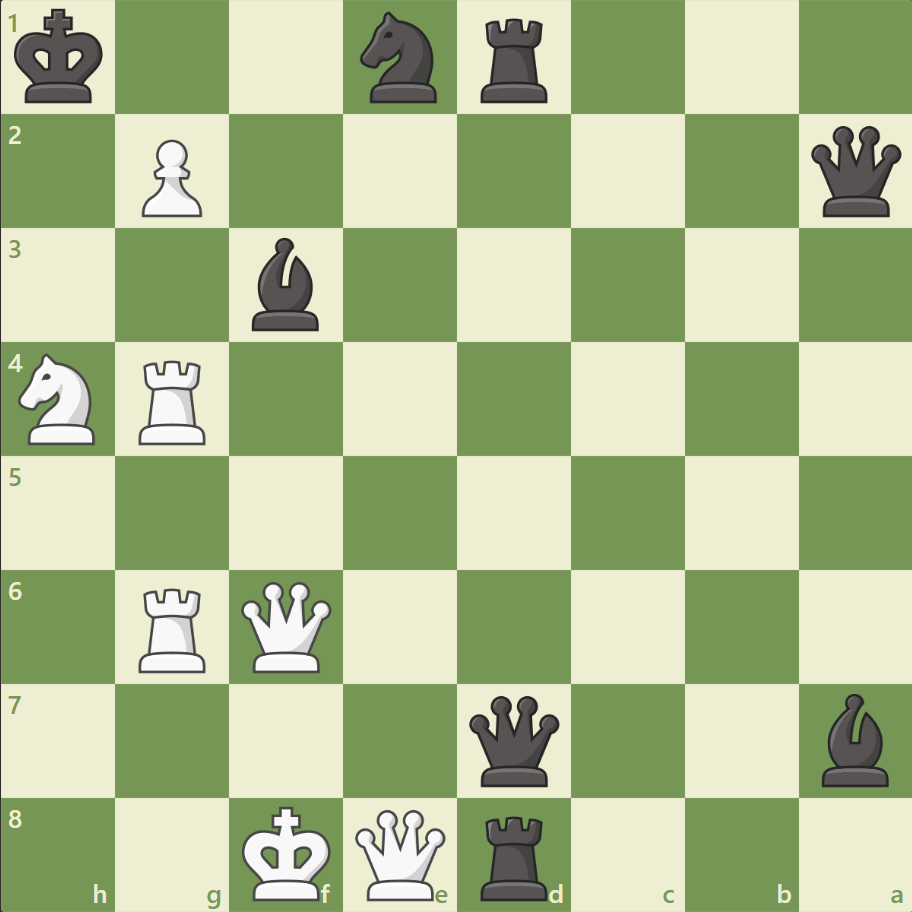K: (238, 798, 338, 906)
N: (11, 348, 108, 450)
P: (133, 132, 208, 223)
Q: (237, 576, 336, 676), (351, 804, 450, 903)
R: (133, 579, 215, 676), (133, 352, 215, 449)
b: (812, 687, 896, 790), (244, 233, 328, 336)
k: (11, 4, 111, 112)
n: (351, 7, 449, 110)
q: (805, 122, 904, 222), (464, 690, 563, 789)
r: (473, 806, 556, 904), (473, 12, 556, 109)
